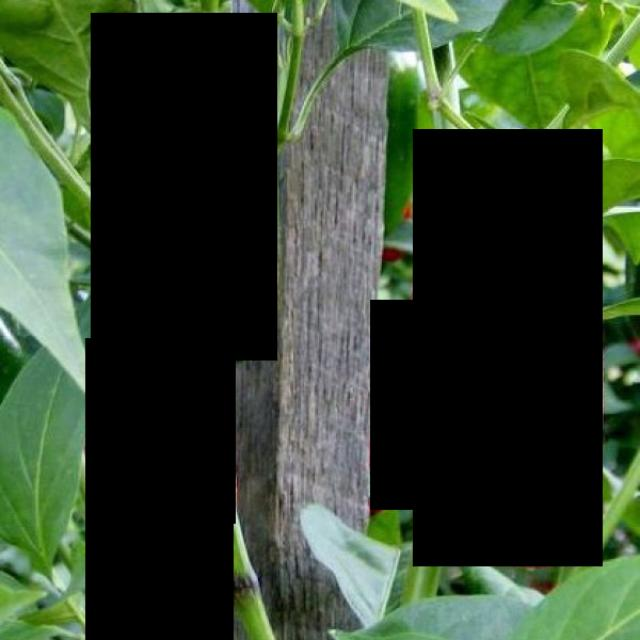Chili_Pepper: (413, 129, 603, 566), (91, 13, 277, 361), (85, 338, 234, 640), (370, 300, 429, 510), (196, 346, 236, 524)
